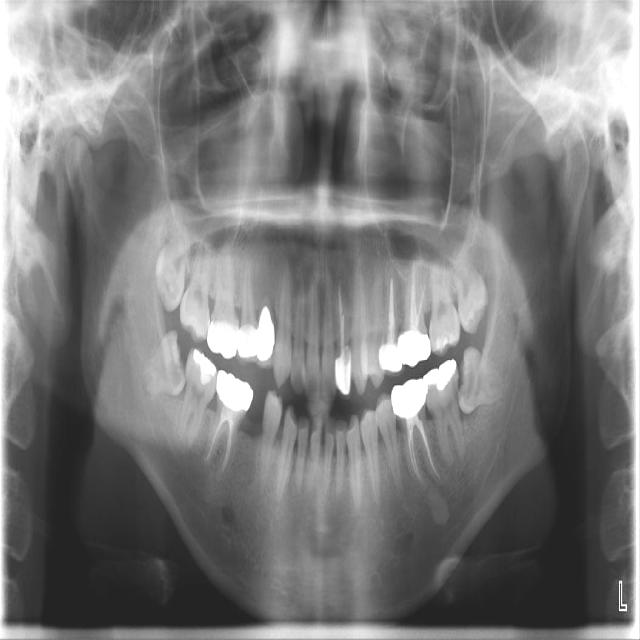Crown: (216, 370, 254, 420), (391, 379, 428, 420), (255, 294, 275, 369), (397, 329, 431, 367), (379, 342, 405, 378), (335, 346, 351, 400)
Filling: (424, 359, 456, 391), (193, 349, 216, 386)
Missing teeth: (239, 391, 269, 437)
Root Canal Treatment: (406, 432, 424, 488), (419, 430, 440, 477), (204, 418, 225, 460), (218, 425, 233, 474), (410, 263, 418, 330), (418, 284, 428, 325), (390, 282, 396, 342), (340, 282, 345, 354), (595, 587, 606, 597)
impacted tooth: (458, 348, 506, 415), (134, 331, 183, 394), (156, 219, 184, 308)
